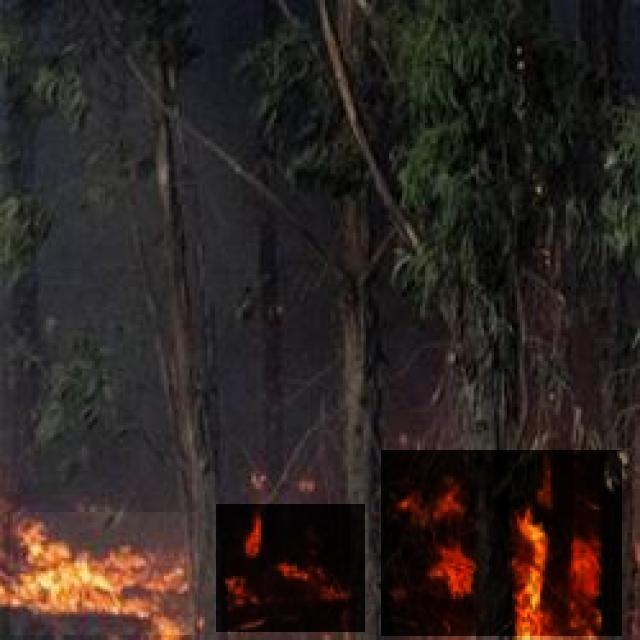Fire: (381, 450, 622, 636), (10, 512, 198, 635), (216, 504, 365, 632)
